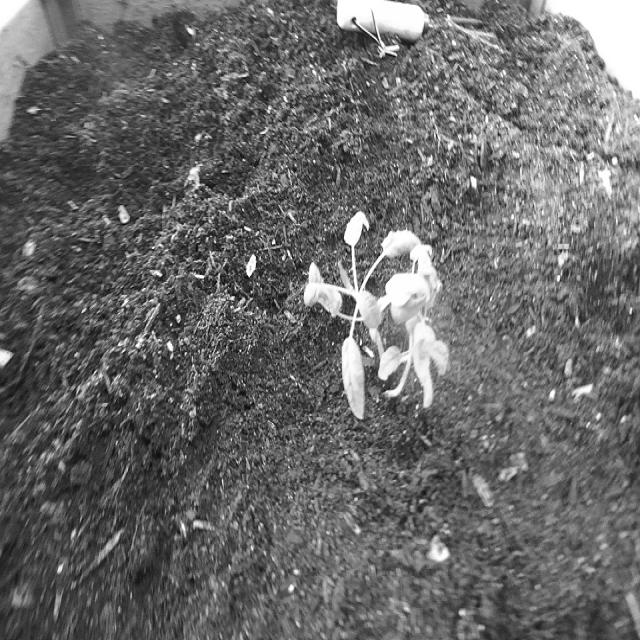Healthy: (302, 203, 453, 423)
